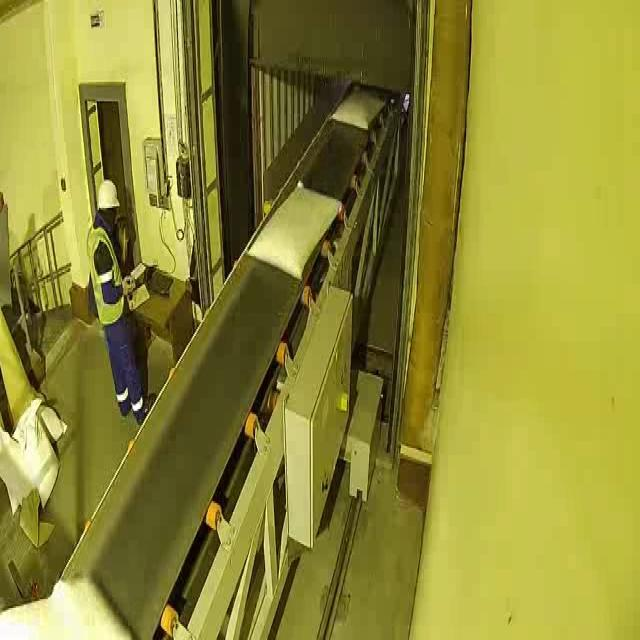bag: (245, 178, 344, 282), (0, 572, 143, 640), (333, 89, 388, 130)
